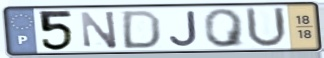5: (36, 8, 77, 52)
D: (120, 9, 163, 50)
J: (167, 9, 200, 48)
N: (78, 9, 120, 50)
Q: (201, 7, 248, 49)
U: (244, 6, 290, 50)
